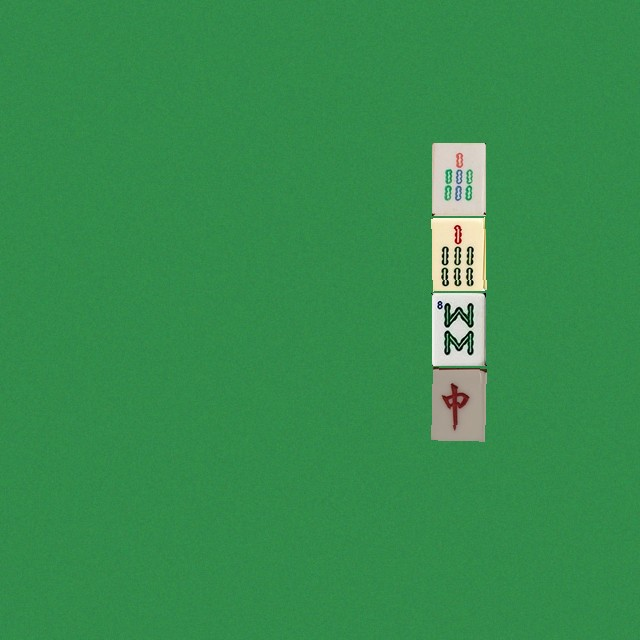tile: (431, 142, 485, 215), (431, 217, 485, 290), (431, 292, 485, 365), (431, 367, 485, 440)
